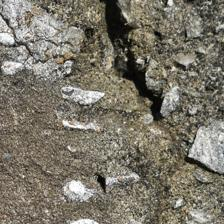Crack: (50, 2, 134, 125)
